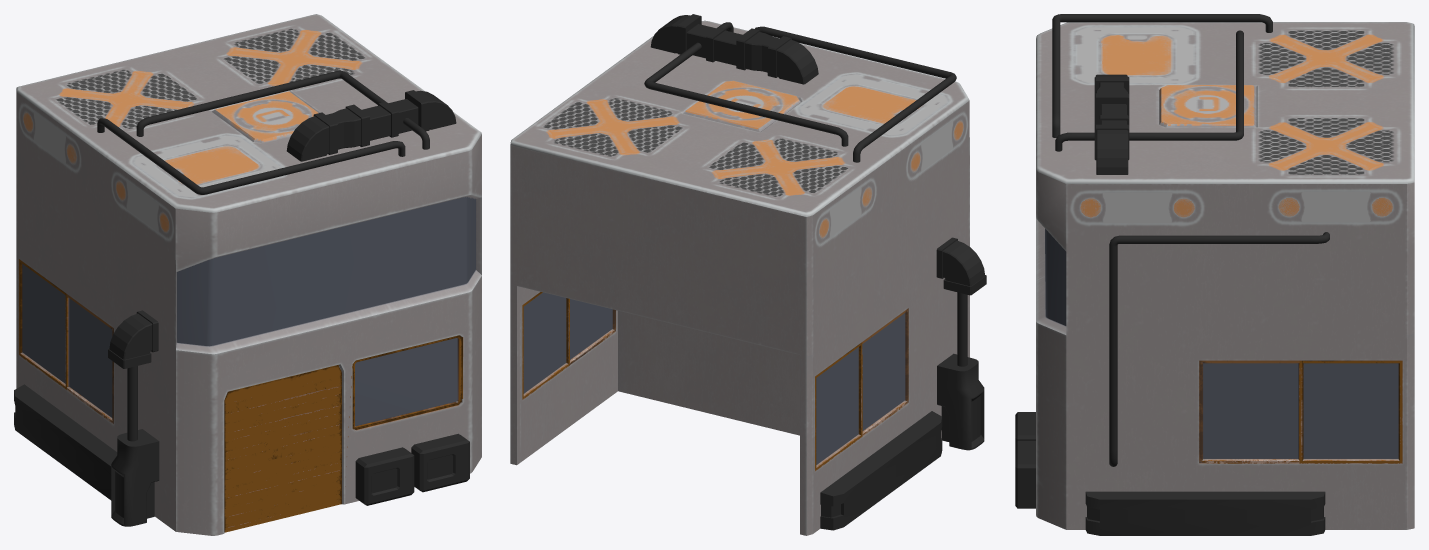
The model's file is Building Base 005.fbx.
The picture shows the model from 3 angles, left to right: view 1: azimuth 30°, elevation 25°; view 2: azimuth 150°, elevation 25°; view 3: azimuth 270°, elevation 25°; orthographic projection. The views are drawn at different scales.
Visible parts, largest first — view 1: Building Base 005; view 2: Building Base 005; view 3: Building Base 005.
Boxes of the visible parts, x1,y1,x2,y2 form: Building Base 005: [14, 14, 481, 535]; Building Base 005: [510, 14, 986, 535]; Building Base 005: [1015, 14, 1414, 535].
Size of the model in its own units: 815 by 786 by 746.
